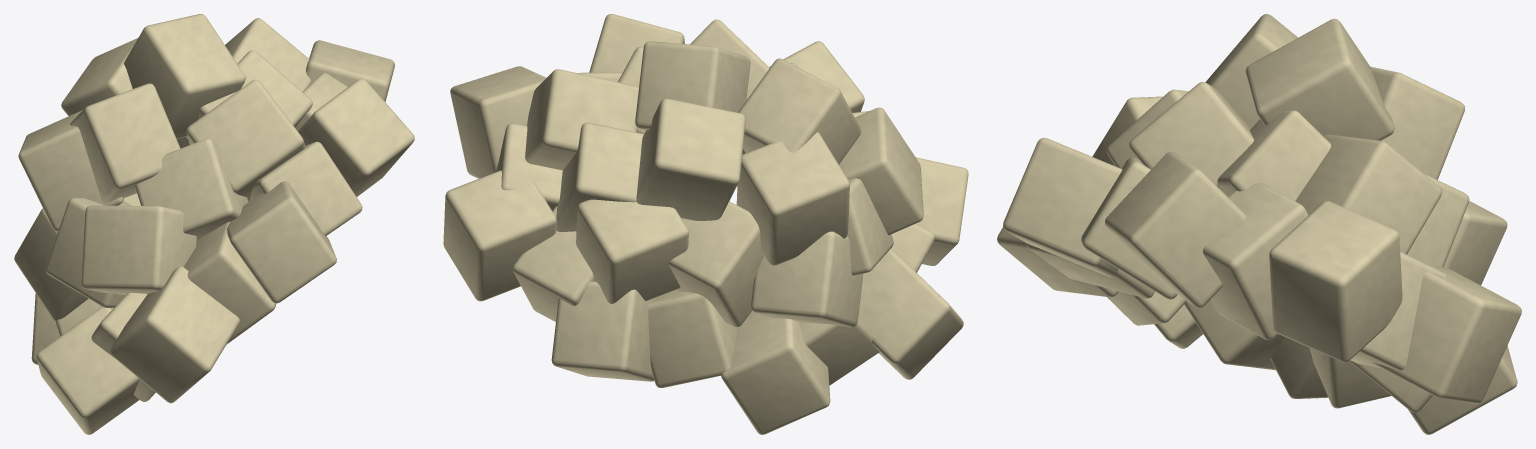
3 renders of one model, left to right at view 1: azimuth 30°, elevation 25°; view 2: azimuth 150°, elevation 25°; view 3: azimuth 270°, elevation 25°, orthographic. The views are drawn at different scales.
Parts seen in each view (by area): view 1: Angular material grain; view 2: Angular material grain; view 3: Angular material grain.
Part boxes in pixels (box(x1,y1,x2,y2)): Angular material grain: box(14, 14, 414, 434); Angular material grain: box(443, 14, 968, 434); Angular material grain: box(997, 14, 1521, 434).
Bounding box in the file's own units: 0.9566 × 0.7518 × 0.8674.
1 material, 1 textured.
